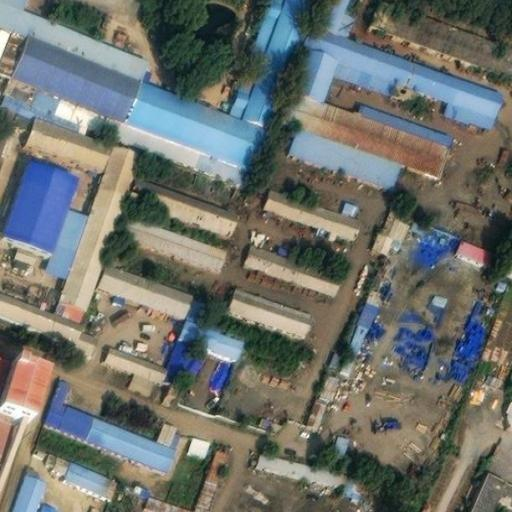building: (24, 111, 146, 315), (295, 22, 503, 126), (283, 86, 456, 173), (42, 370, 183, 465), (127, 75, 272, 163), (13, 27, 145, 114), (113, 114, 257, 182), (376, 0, 512, 68), (287, 123, 400, 187), (3, 72, 111, 135), (145, 438, 229, 512), (123, 209, 226, 267), (255, 448, 370, 499), (97, 255, 196, 312), (138, 172, 236, 227), (165, 316, 239, 383), (265, 181, 362, 232), (225, 281, 314, 334), (443, 296, 496, 385), (243, 239, 337, 289), (43, 444, 118, 491), (401, 218, 458, 276), (46, 200, 91, 273), (101, 338, 169, 386), (0, 350, 48, 416), (339, 294, 380, 371), (371, 200, 412, 251), (469, 468, 512, 512), (10, 467, 47, 512), (305, 369, 334, 425), (455, 232, 502, 263), (207, 356, 235, 393), (155, 378, 180, 407), (423, 290, 448, 317), (328, 432, 352, 458), (184, 430, 209, 453), (322, 347, 342, 372)
